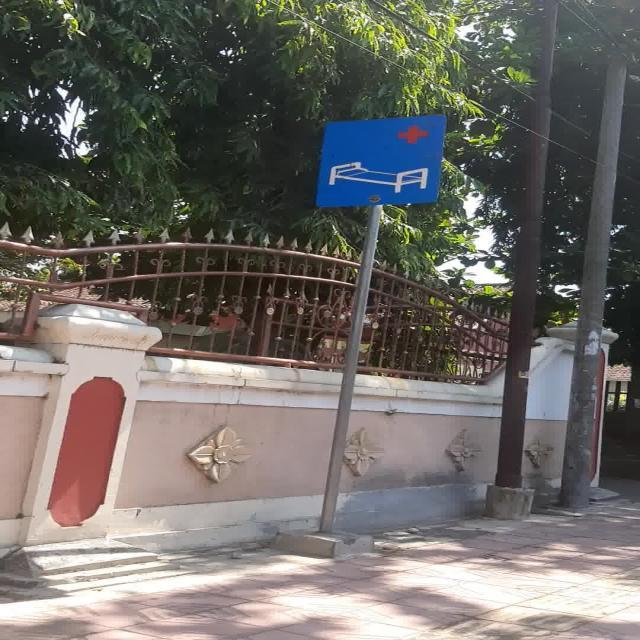Rumah Sakit: (316, 116, 447, 206)
